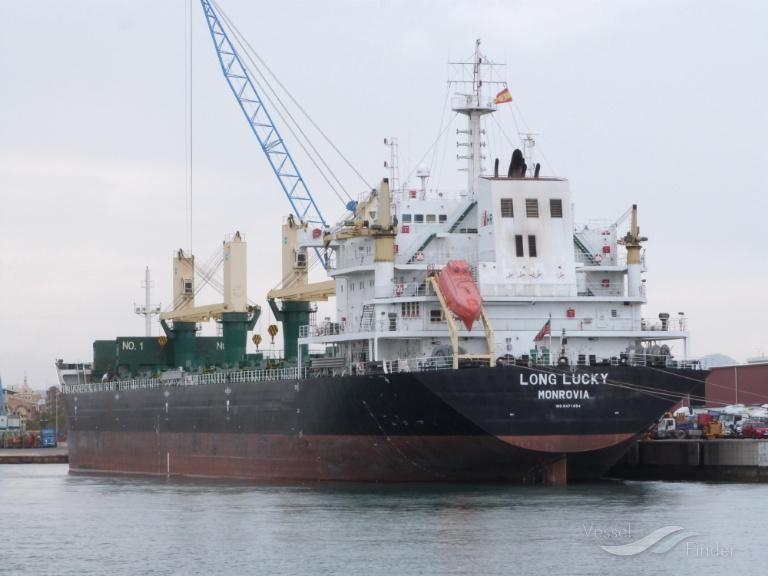OCR: (506, 360, 614, 418)
